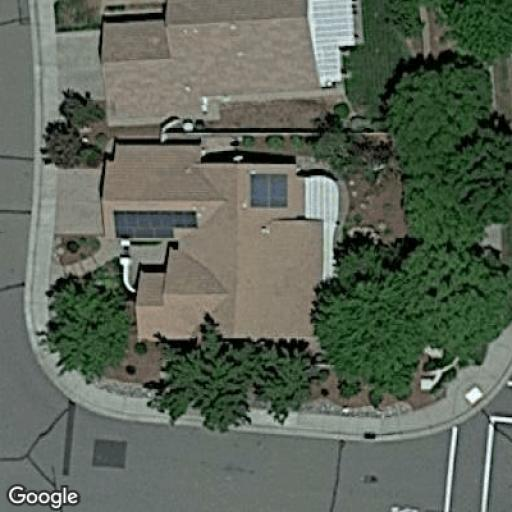solar-panel: (112, 207, 198, 241), (248, 170, 291, 210)
